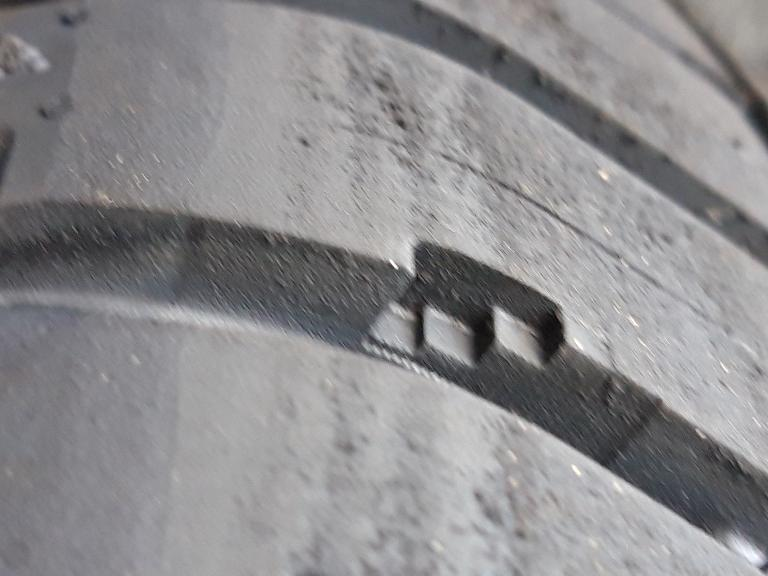temoin:75: (350, 230, 626, 453)
